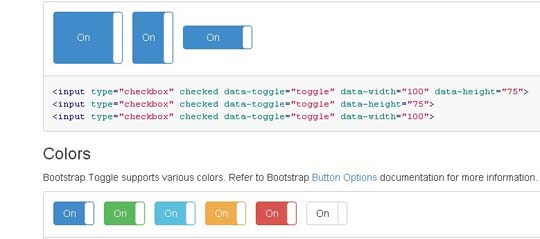checkbox: (149, 198, 198, 231), (303, 196, 350, 229), (201, 197, 249, 229), (252, 197, 301, 228), (51, 200, 101, 227), (102, 200, 149, 228)
